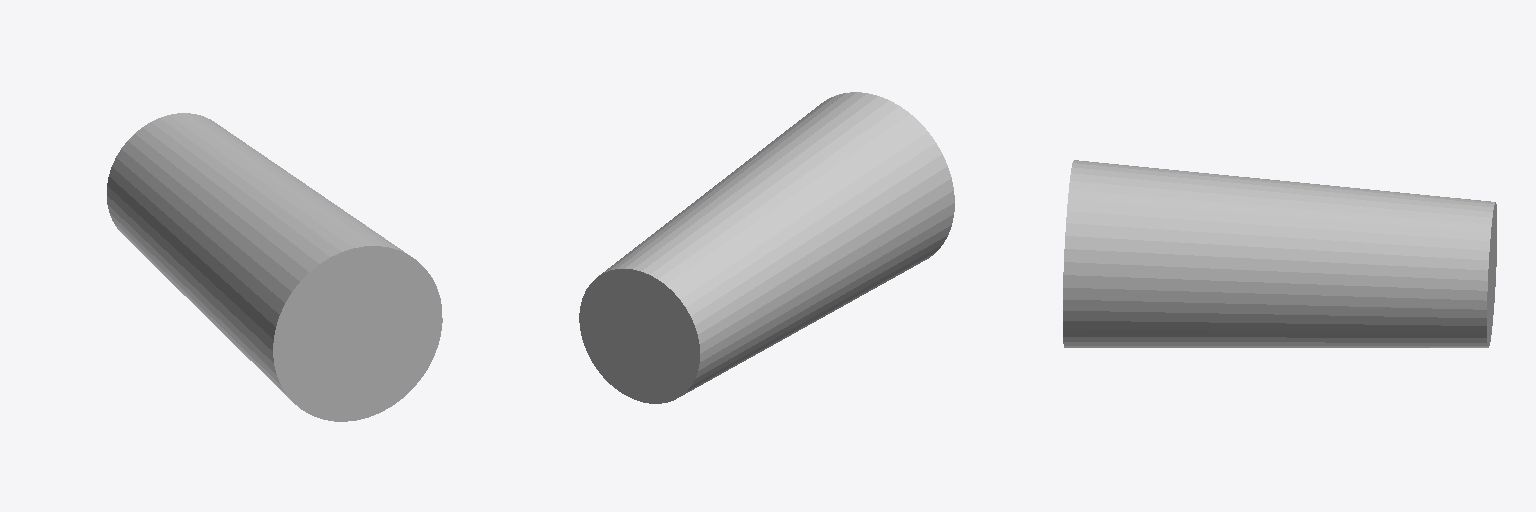
File: Left Upper Arm.obj
3 renders of one model, left to right at view 1: azimuth 30°, elevation 25°; view 2: azimuth 150°, elevation 25°; view 3: azimuth 270°, elevation 25°, orthographic.
Visible parts, largest first — view 1: Left_Upper_Arm_Sphere.032; view 2: Left_Upper_Arm_Sphere.032; view 3: Left_Upper_Arm_Sphere.032.
Boxes of the visible parts, <box> form: Left_Upper_Arm_Sphere.032: <box>107,113,442,421</box>; Left_Upper_Arm_Sphere.032: <box>579,92,954,403</box>; Left_Upper_Arm_Sphere.032: <box>1063,160,1496,347</box>.
Size of the model in its own units: 0.572 by 0.5495 by 1.27.